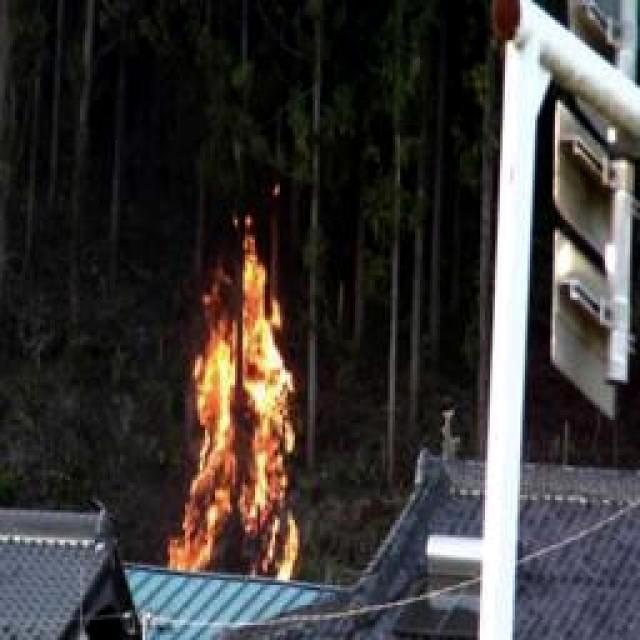fire: (179, 217, 313, 588)
